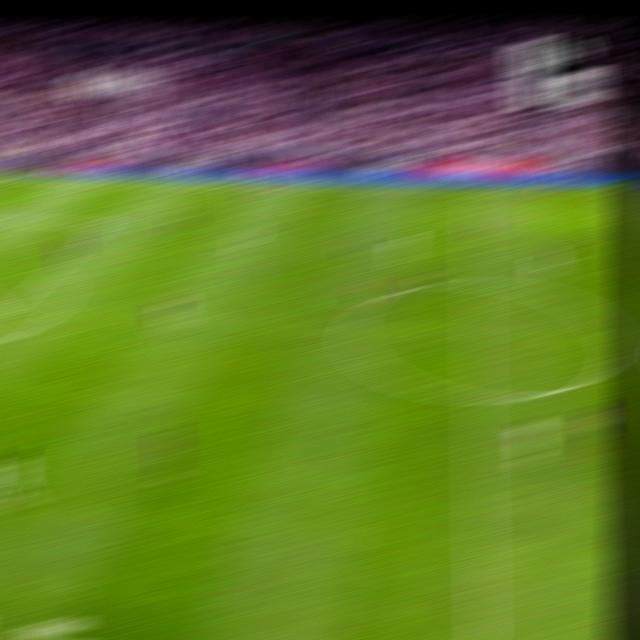bigarea_top_inner: (92, 218, 116, 229)
corner: (0, 172, 20, 179)
halfcircle_bottom: (463, 382, 493, 409)
halfcircle_top: (461, 269, 492, 295)
midline_top_intersection: (463, 184, 487, 195)
top_arc_area_intersection: (38, 267, 60, 279)
